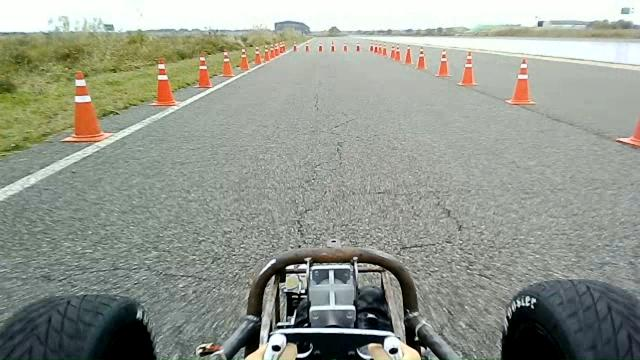red cone: (59, 70, 112, 142), (505, 58, 536, 105), (149, 57, 178, 106), (457, 50, 478, 86), (192, 51, 212, 88), (435, 48, 452, 78), (218, 49, 234, 77), (415, 46, 427, 70), (238, 48, 250, 70), (403, 45, 413, 65), (254, 46, 262, 65), (393, 44, 401, 62)
